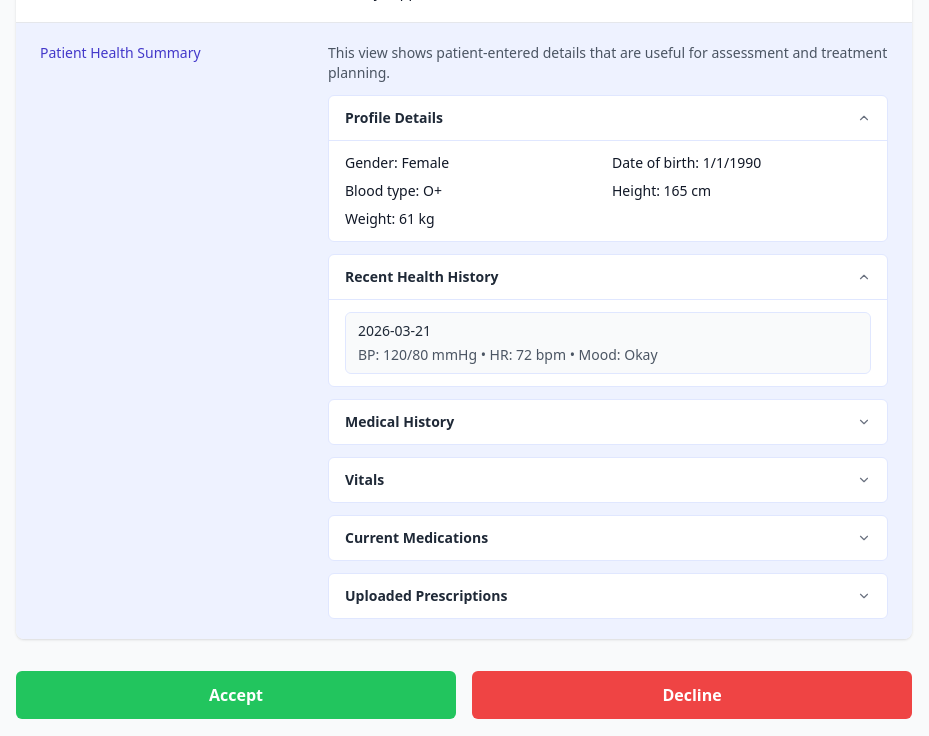
Test case: Therapist patient health summary › shows the decline confirmation before declining a pending appointment
(page scrolled)
Click the button "Decline": (692, 695) [472,671,912,719]
(page scrolled)
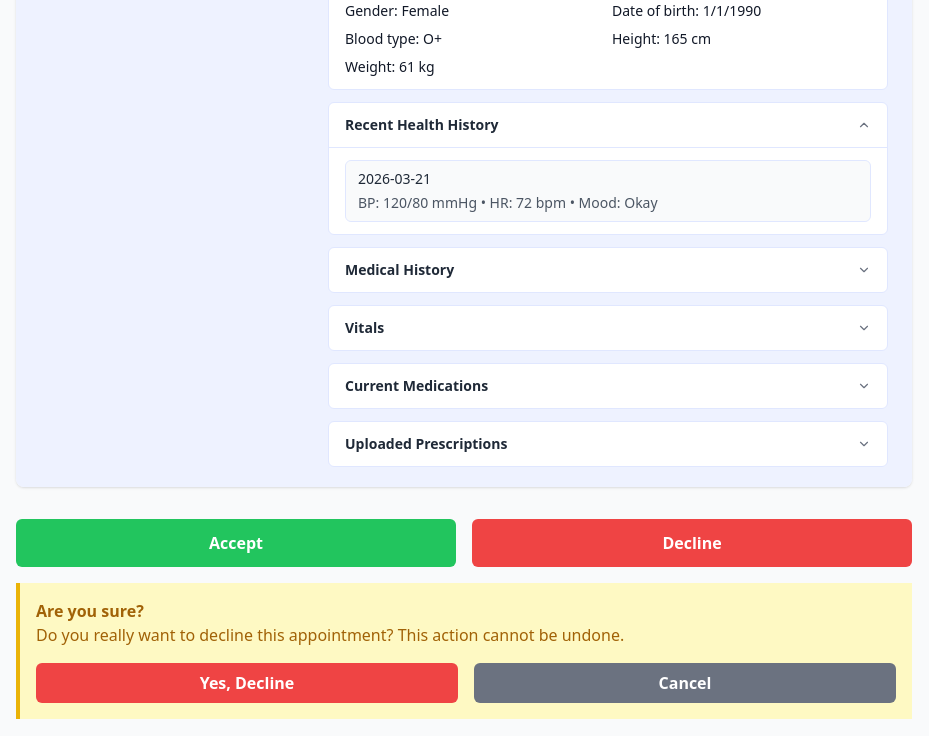
Now the text "Are you sure?" is shown, box [36,600,144,622]
Now the button "Yes, Decline" is shown, box [36,663,458,703]
